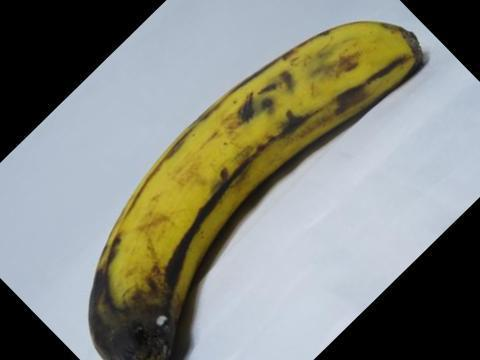overripe: (59, 19, 438, 359)
rotten: (76, 238, 204, 359)
